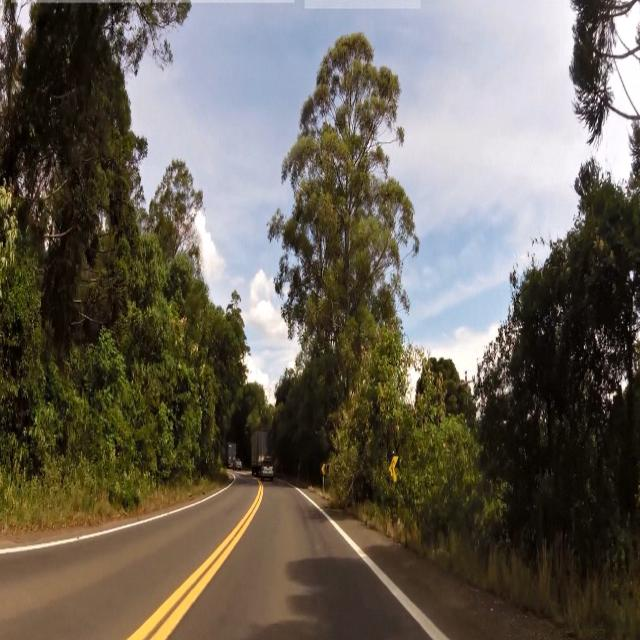Del: (386, 452, 404, 488)
